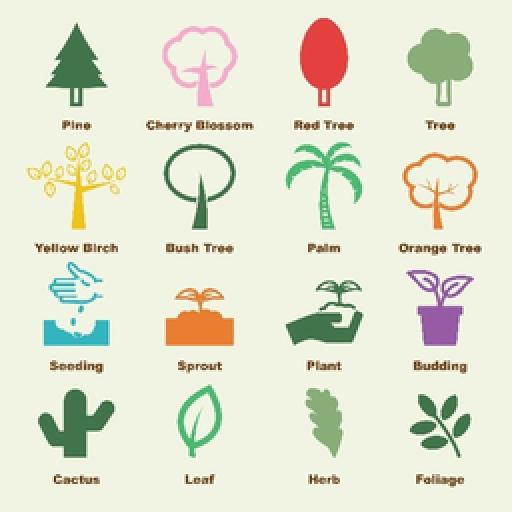trees: (24, 138, 128, 232), (284, 140, 366, 230), (160, 24, 240, 110), (162, 140, 238, 230), (400, 150, 480, 232), (404, 26, 476, 110), (44, 22, 110, 112), (298, 16, 350, 110)
